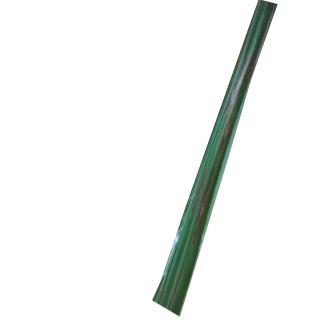Hawar-Daun: (187, 159, 220, 250), (217, 112, 236, 155)
